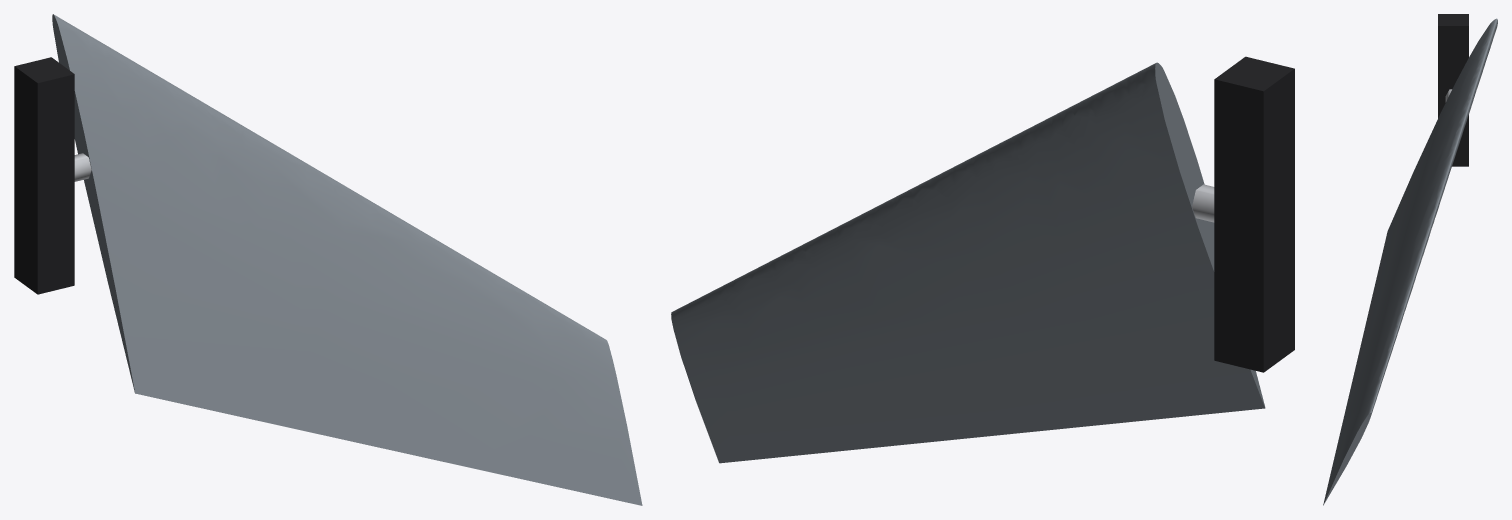
The model's file is jet09_control_surface_canard_m_defl_neg.glb.
The picture shows the model from 3 angles, left to right: view 1: azimuth 30°, elevation 25°; view 2: azimuth 150°, elevation 25°; view 3: azimuth 270°, elevation 25°; orthographic projection. The views are drawn at different scales.
Parts seen in each view (by area): view 1: surface, root_housing; view 2: surface, root_housing, pivot_shaft; view 3: surface, root_housing.
Part boxes in pixels (x1=…): surface: x1=52, y1=14, x2=642, y2=505; root_housing: x1=14, y1=57, x2=74, y2=294; surface: x1=671, y1=62, x2=1265, y2=463; root_housing: x1=1214, y1=56, x2=1294, y2=372; pivot_shaft: x1=1192, y1=184, x2=1214, y2=222; surface: x1=1323, y1=18, x2=1497, y2=505; root_housing: x1=1438, y1=14, x2=1468, y2=166.
Size of the model in its own units: 2.46 by 2.31 by 1.08.
Materials: 3 (1 with a texture image).
